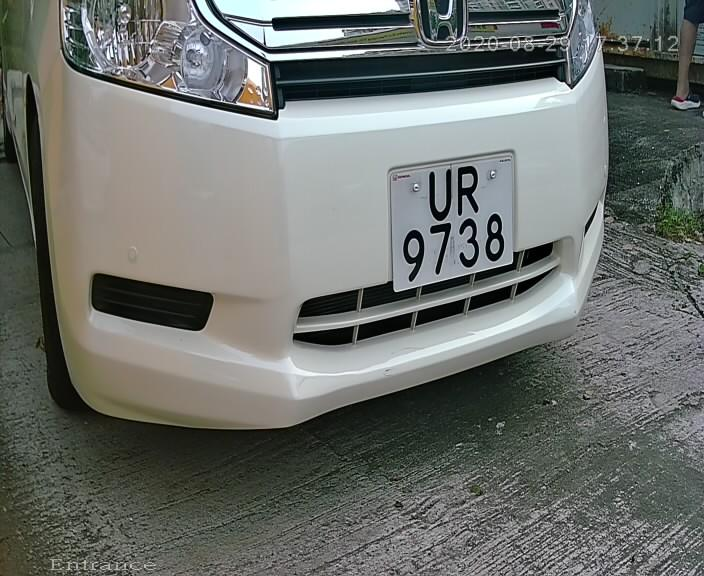License Plate: (390, 150, 519, 299)
